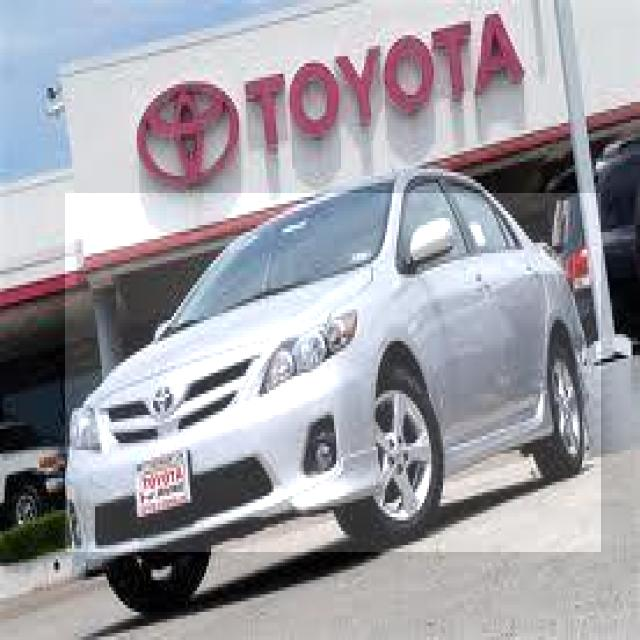Car: (65, 193, 601, 552)
